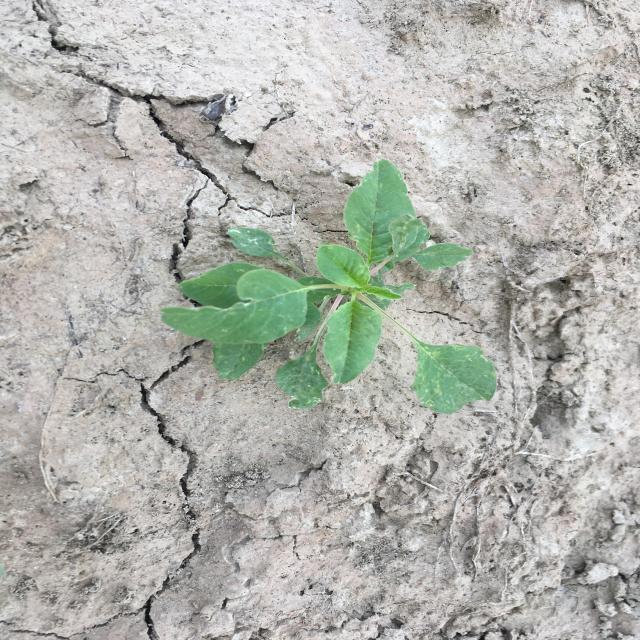PalmerAmaranth: (160, 158, 497, 414)
